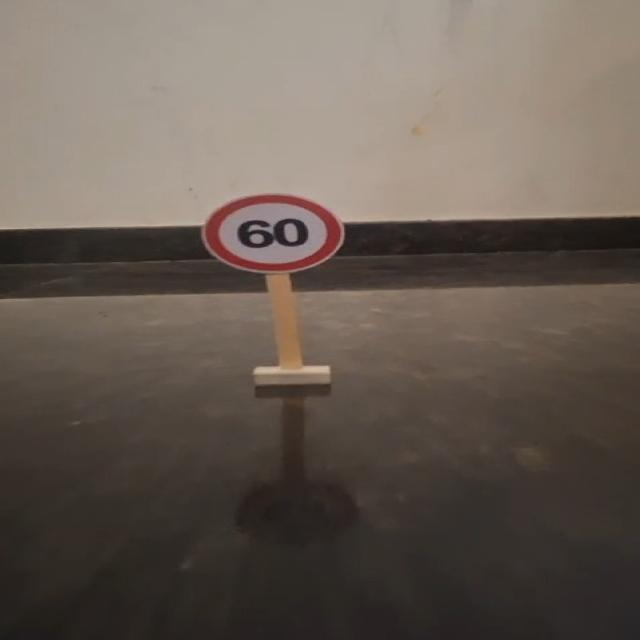Speed60: (192, 190, 352, 280)
